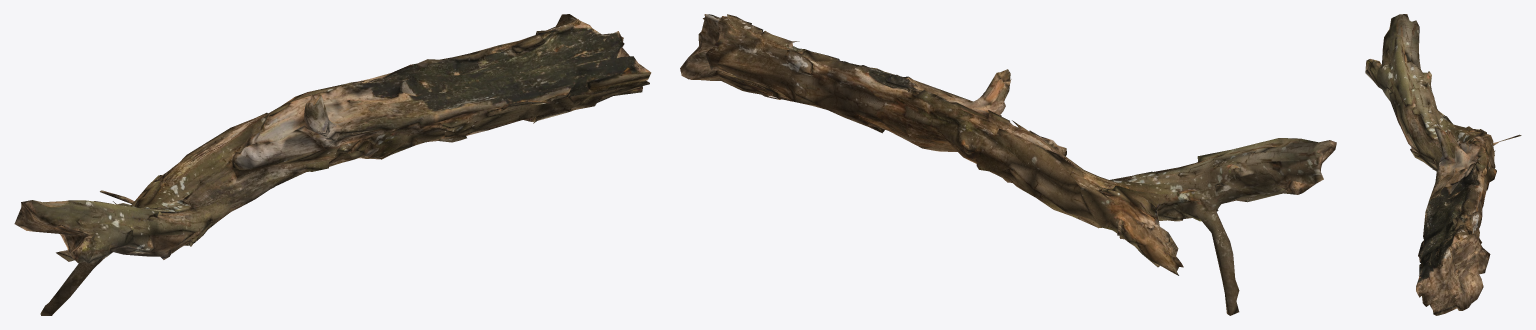
File: deadwood.glb
3 views of the same model, side by side, from view 1: azimuth 30°, elevation 25°; view 2: azimuth 150°, elevation 25°; view 3: azimuth 270°, elevation 25° (orthographic). The views are drawn at different scales.
Parts seen in each view (by area): view 1: dead_tree_trunk_02; view 2: dead_tree_trunk_02; view 3: dead_tree_trunk_02.
Part boxes in pixels (x1,y1,x2,y2): dead_tree_trunk_02: (14,14,651,315); dead_tree_trunk_02: (680,14,1336,315); dead_tree_trunk_02: (1365,14,1521,315).
Size of the model in its own units: 4.05 by 1.05 by 1.05.
1 material, 1 textured.
